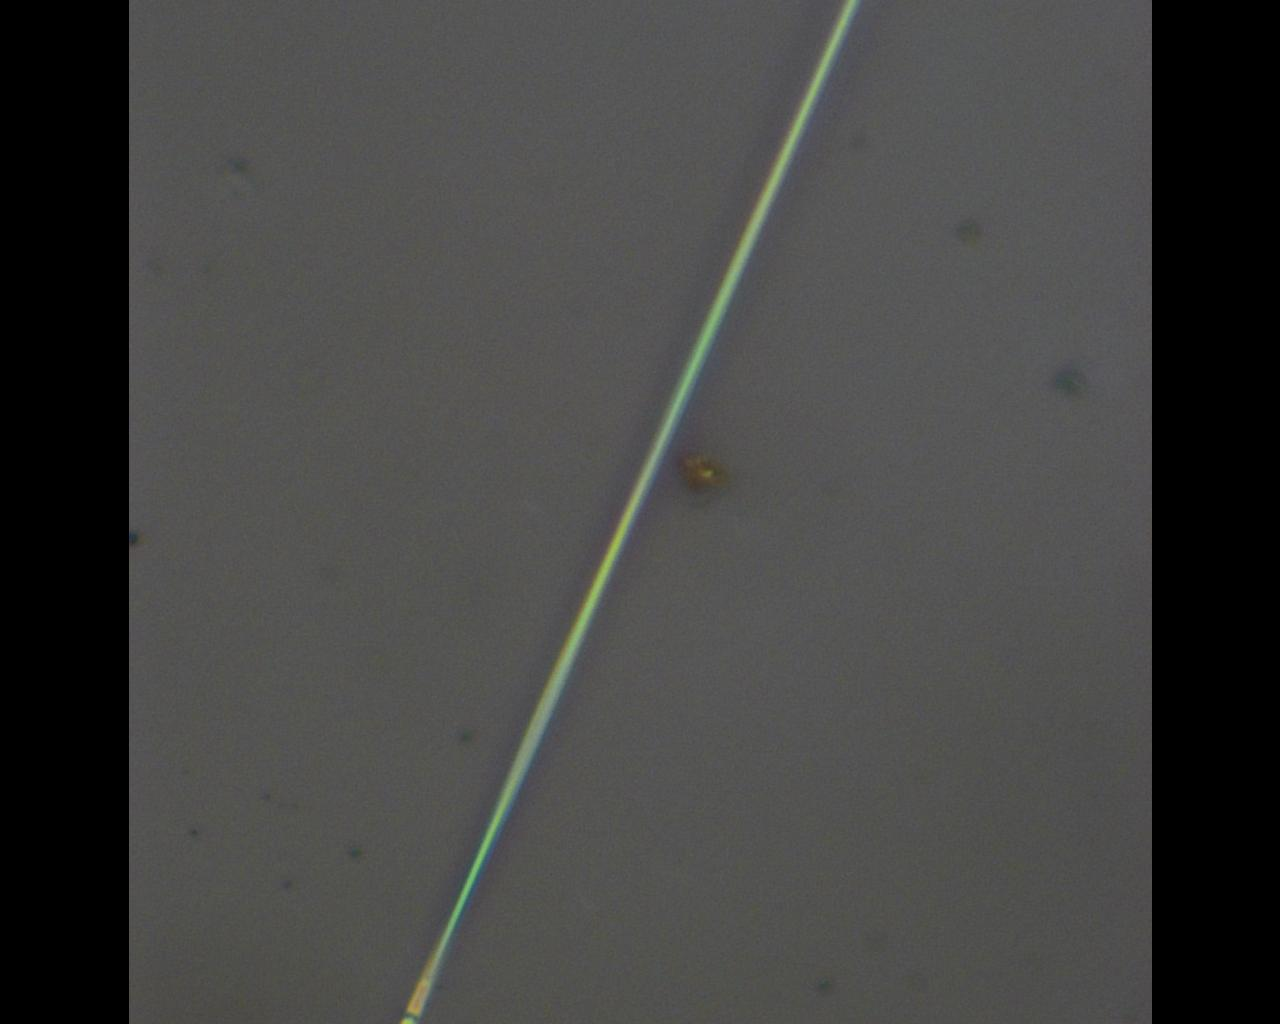fiber: (394, 0, 860, 1024)
